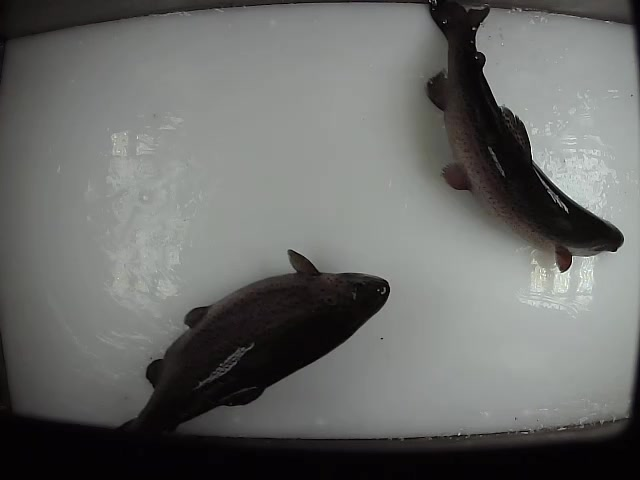Fish: (115, 247, 390, 451), (427, 1, 625, 273)
